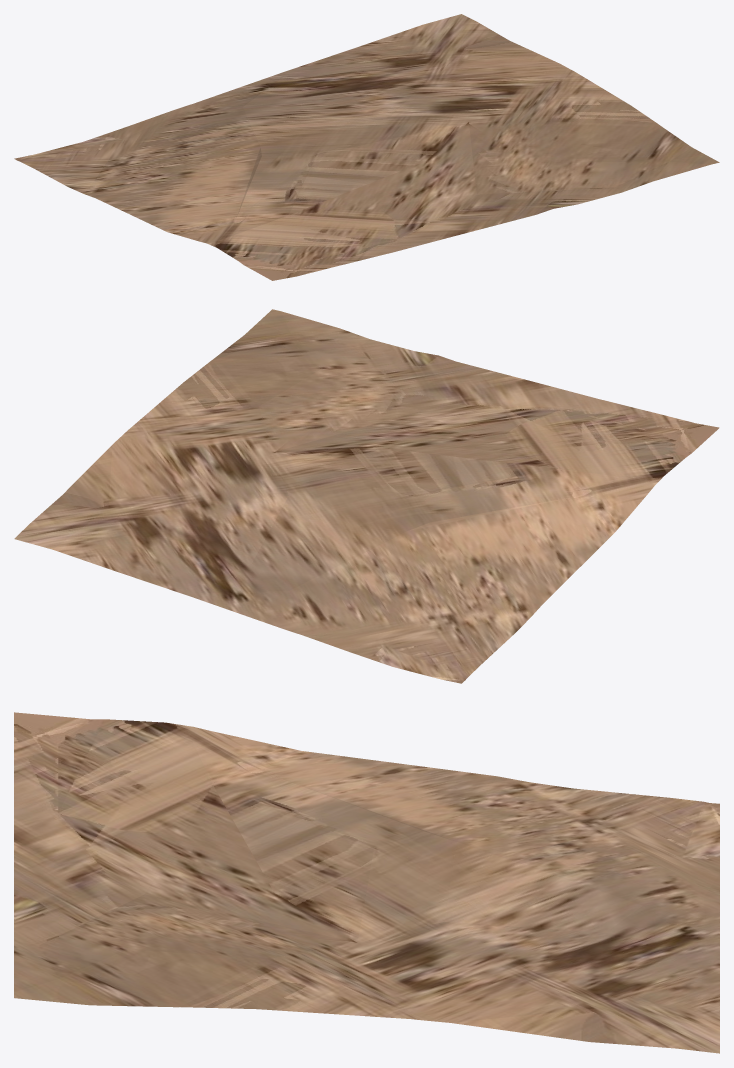
3 views of the same model, one above another, from view 1: azimuth 30°, elevation 25°; view 2: azimuth 150°, elevation 25°; view 3: azimuth 270°, elevation 25° (orthographic). The views are drawn at different scales.
Bounding box in the file's own units: 2.09 × 0.3432 × 2.09.
3 materials, 3 textured.
